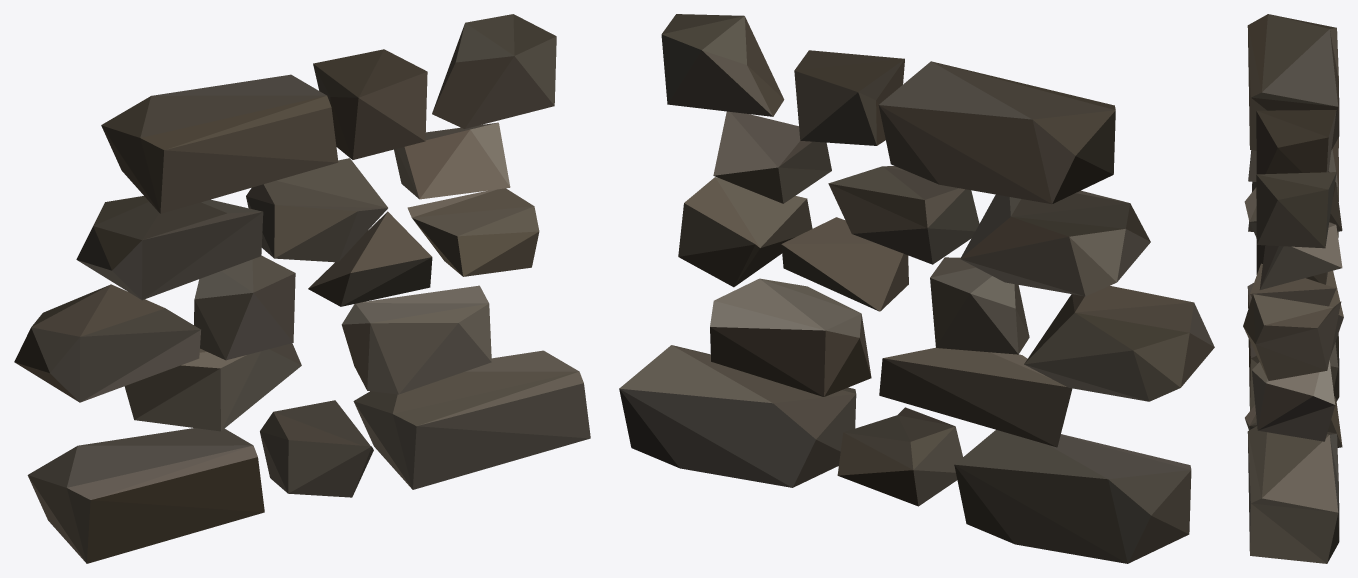
Rendered from Decal-Bricks_B.fbx.
The picture shows the model from 3 angles, left to right: view 1: azimuth 30°, elevation 25°; view 2: azimuth 150°, elevation 25°; view 3: azimuth 270°, elevation 25°; orthographic projection. The views are drawn at different scales.
Visible parts, largest first — view 1: Decal-Bricks_B; view 2: Decal-Bricks_B; view 3: Decal-Bricks_B.
Part boxes in pixels (bbox=[...]): Decal-Bricks_B: bbox=[14, 14, 590, 563]; Decal-Bricks_B: bbox=[619, 14, 1214, 563]; Decal-Bricks_B: bbox=[1243, 14, 1343, 563].
Size of the model in its own units: 323 by 240 by 59.55.
